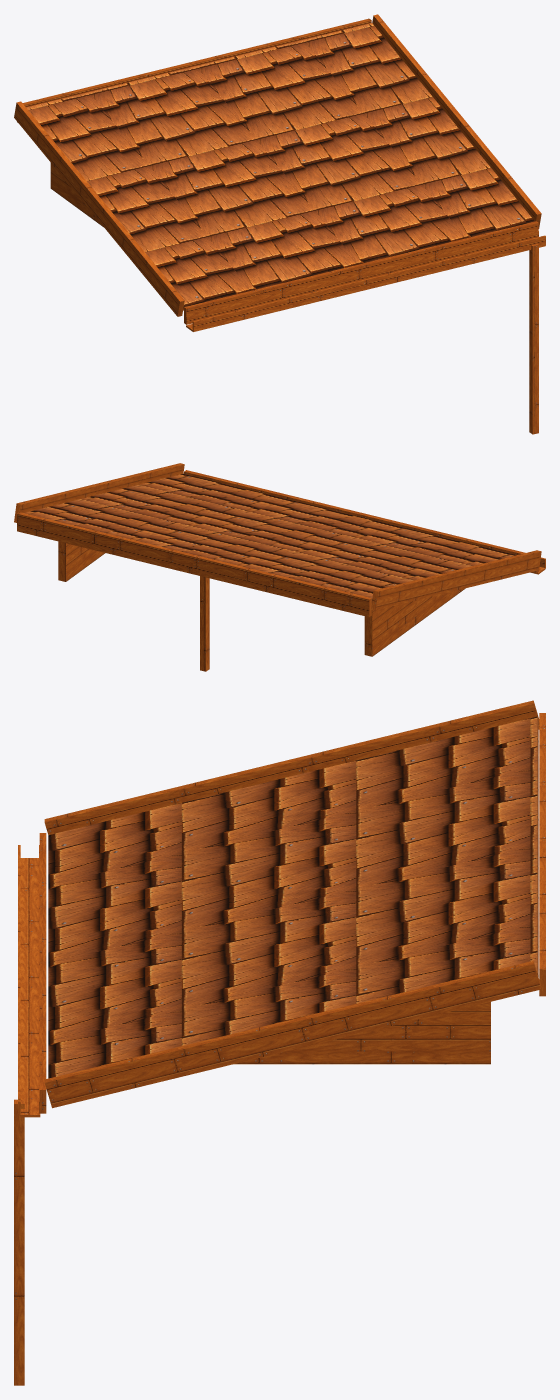
The model's file is Roof_Shed_4x3.fbx.
3 views of the same model, one above another, from view 1: azimuth 30°, elevation 25°; view 2: azimuth 150°, elevation 25°; view 3: azimuth 270°, elevation 25° (orthographic). The views are drawn at different scales.
Visible parts, largest first — view 1: Roof_Shed_4x3; view 2: Roof_Shed_4x3; view 3: Roof_Shed_4x3.
Part boxes in pixels (<box>): Roof_Shed_4x3: <box>14,14,545,434</box>; Roof_Shed_4x3: <box>14,463,545,671</box>; Roof_Shed_4x3: <box>14,700,545,1385</box>.
Bounding box in the file's own units: 4.72 × 3.6 × 4.02.
